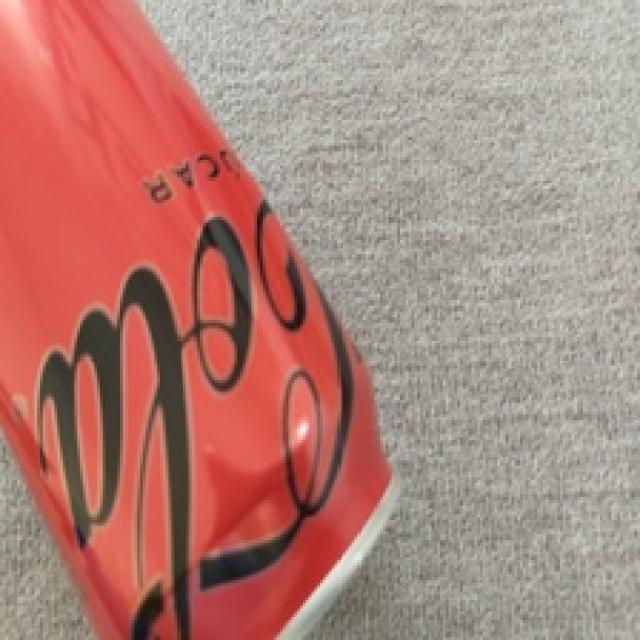recyclable: (0, 0, 403, 640)
